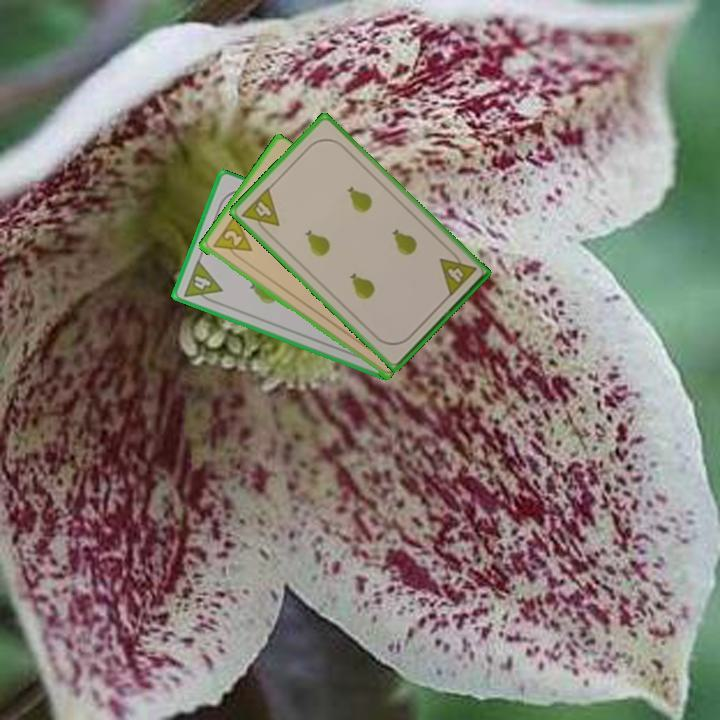2p: (209, 213, 255, 263)
4p: (238, 184, 282, 238), (436, 246, 479, 300), (180, 257, 225, 307)
